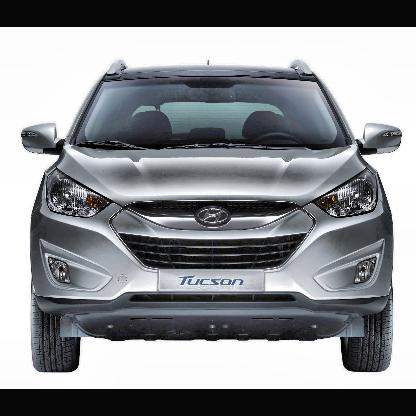Hyundai Tucson SUV 2012: (22, 60, 401, 376)
